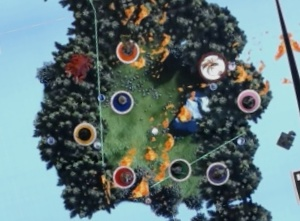blue: (107, 84, 138, 116)
green: (165, 154, 196, 185)
orange: (111, 34, 142, 65)
pink: (234, 85, 267, 116)
red: (110, 160, 139, 191)
violet: (202, 155, 233, 188)
yellow: (68, 116, 100, 147)
